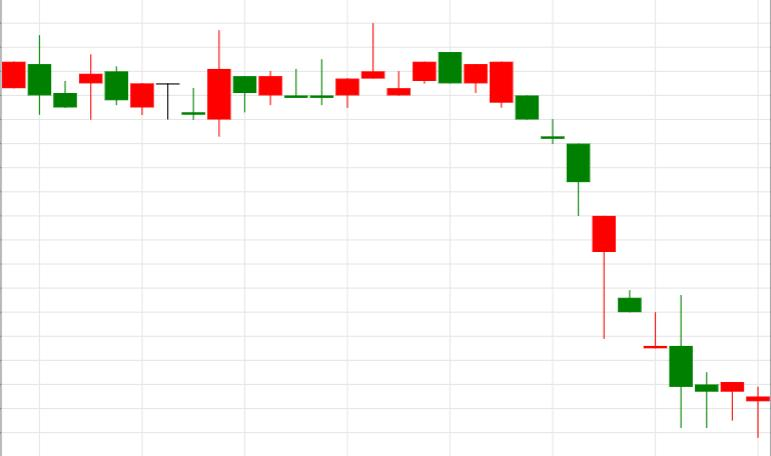hammer_rise: (439, 52, 616, 339)
